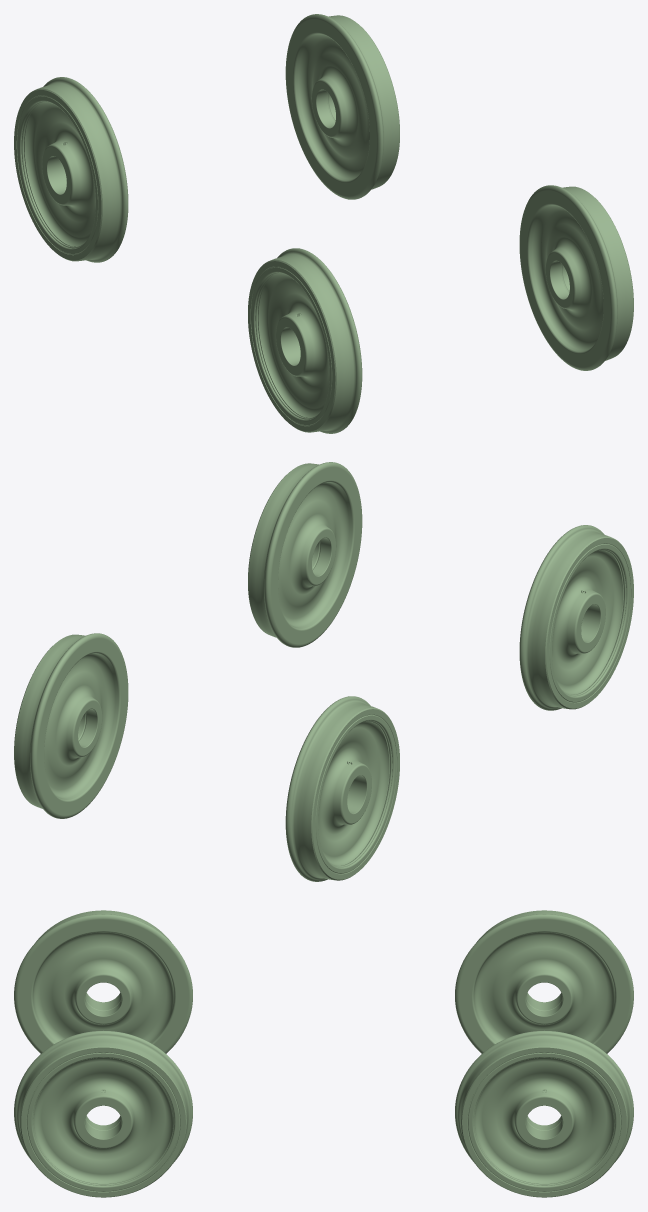
The picture shows the model from 3 angles, top to bottom: view 1: azimuth 30°, elevation 25°; view 2: azimuth 150°, elevation 25°; view 3: azimuth 270°, elevation 25°; orthographic projection. The views are drawn at different scales.
Visible parts, largest first — view 1: asm0001_asm.cgr|:|FFB3E5FB8D8E3C710F667B534F308DF0689D568B|: (×4); view 2: asm0001_asm.cgr|:|FFB3E5FB8D8E3C710F667B534F308DF0689D568B|: (×4); view 3: asm0001_asm.cgr|:|FFB3E5FB8D8E3C710F667B534F308DF0689D568B|: (×4).
Part boxes in pixels (x1,y1,x2,y2): asm0001_asm.cgr|:|FFB3E5FB8D8E3C710F667B534F308DF0689D568B|: (×4): [14, 14, 633, 433]; asm0001_asm.cgr|:|FFB3E5FB8D8E3C710F667B534F308DF0689D568B|: (×4): [14, 462, 633, 881]; asm0001_asm.cgr|:|FFB3E5FB8D8E3C710F667B534F308DF0689D568B|: (×4): [14, 910, 633, 1197].
Bounding box in the file's own units: 1.63 × 0.8976 × 3.09.
